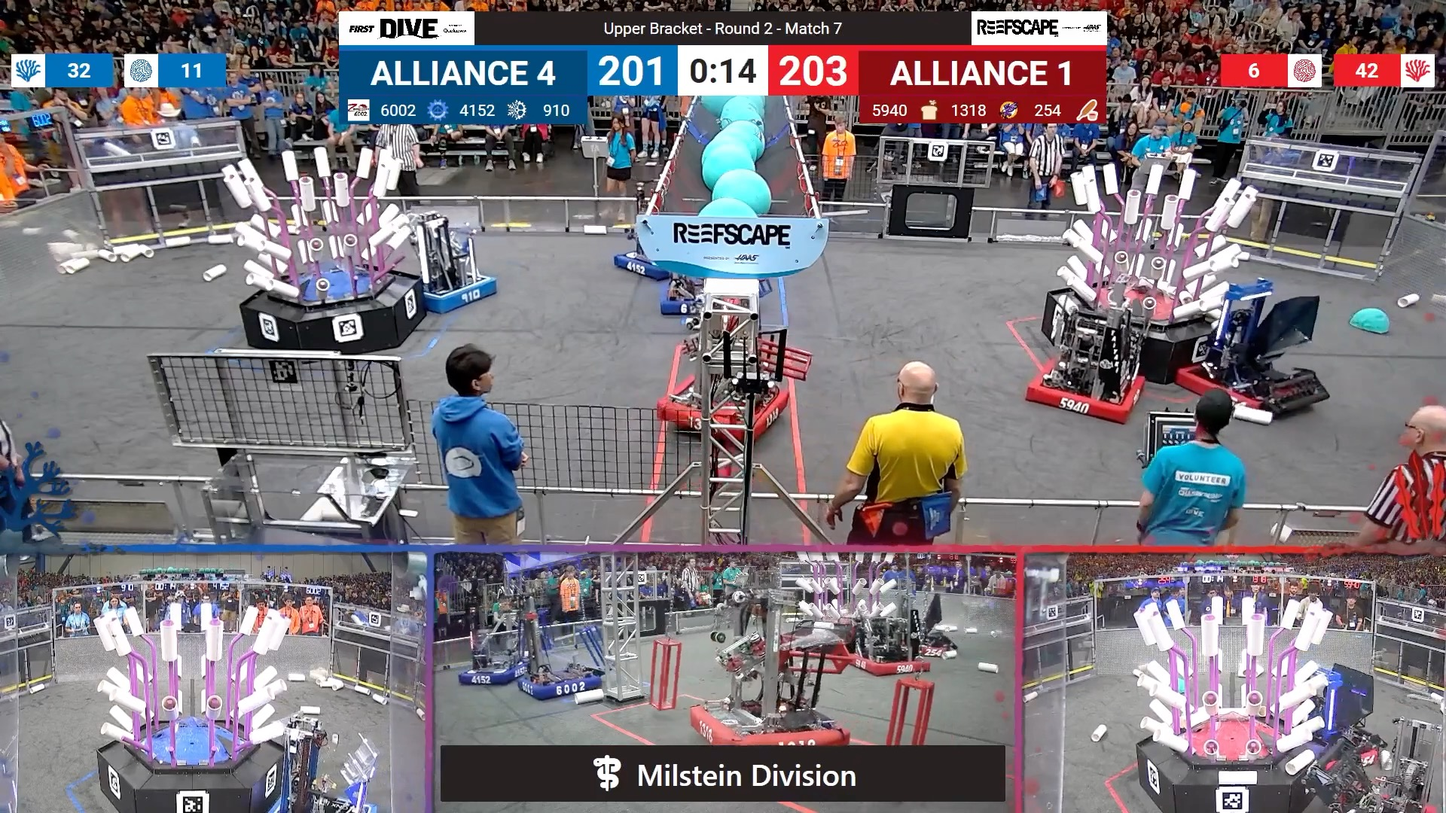bumpers: (1167, 358, 1319, 423), (1017, 359, 1152, 430), (695, 711, 853, 749), (406, 271, 505, 318), (1314, 787, 1441, 813), (508, 668, 605, 700), (453, 662, 535, 689), (607, 252, 679, 282), (653, 286, 709, 318)
